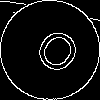O: (25, 25, 85, 85)
